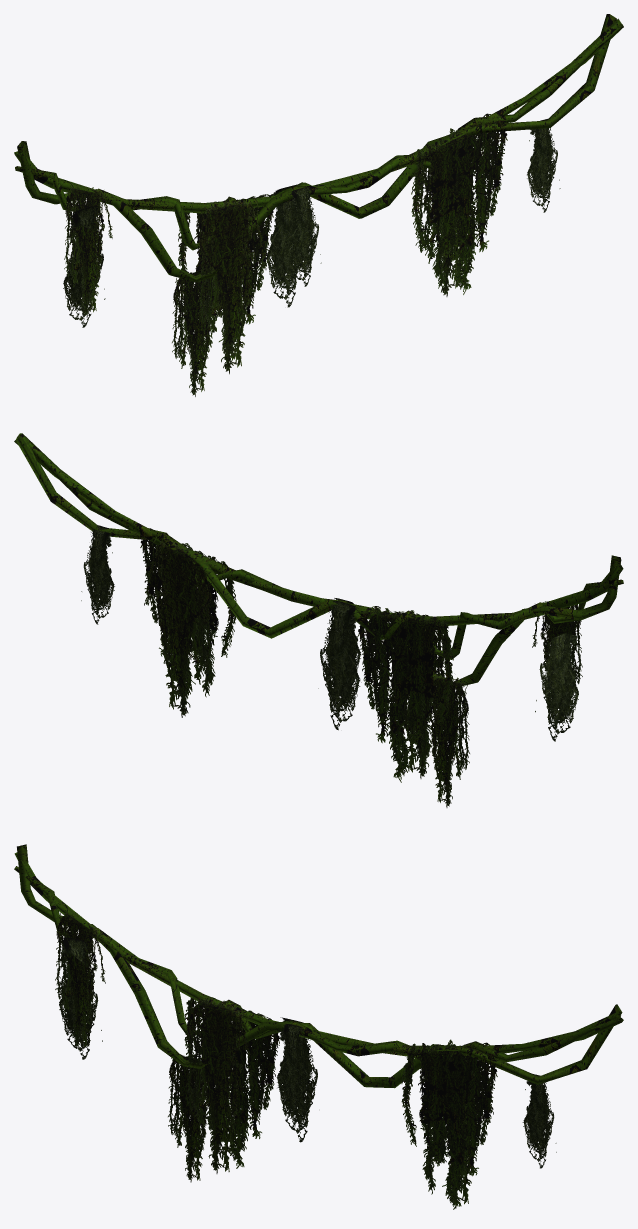
Rendered from HangingVine.fbx.
3 views of the same model, one above another, from view 1: azimuth 30°, elevation 25°; view 2: azimuth 150°, elevation 25°; view 3: azimuth 330°, elevation 25° (orthographic).
Visible parts, largest first — view 1: HangingVine; view 2: HangingVine; view 3: HangingVine.
Boxes of the visible parts, x1,y1,x2,y2 form: HangingVine: (14, 14, 623, 396); HangingVine: (14, 433, 623, 807); HangingVine: (14, 844, 623, 1209).
Bounding box in the file's own units: 1601 × 745 × 61.43.
